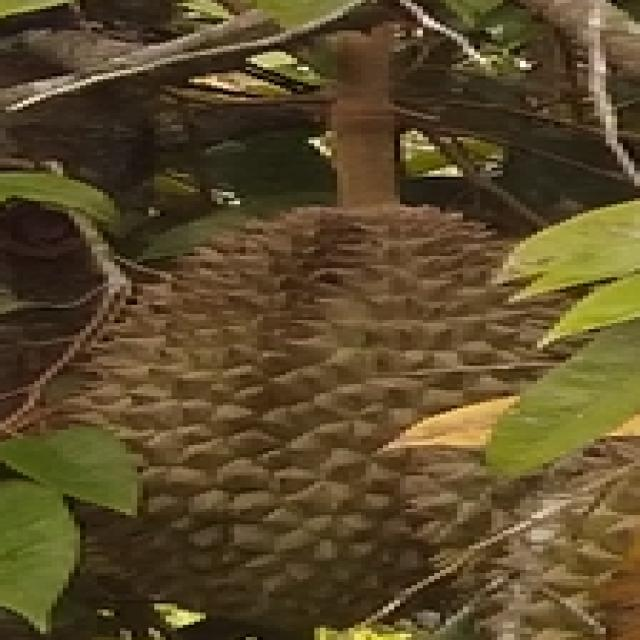mature: (49, 208, 567, 628)
